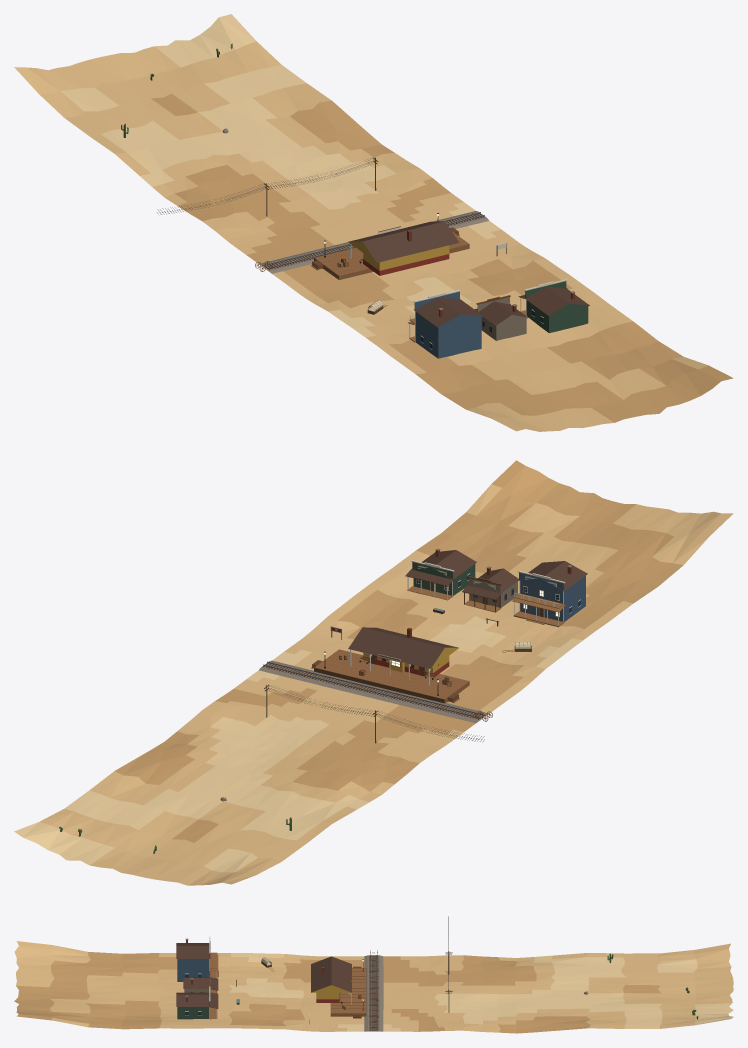
The model's file is SM_FG_Chunk_Landmark_Station_A.fbx.
The picture shows the model from 3 angles, top to bottom: view 1: azimuth 30°, elevation 25°; view 2: azimuth 150°, elevation 25°; view 3: azimuth 270°, elevation 25°; orthographic projection. The views are drawn at different scales.
Visible parts, largest first — view 1: FG_Chunk_Landmark_Station_A_Track; view 2: FG_Chunk_Landmark_Station_A_Track; view 3: FG_Chunk_Landmark_Station_A_Track.
Part boxes in pixels (left/top/right/bottom): FG_Chunk_Landmark_Station_A_Track: left=14, top=14, right=733, bottom=431; FG_Chunk_Landmark_Station_A_Track: left=14, top=460, right=733, bottom=885; FG_Chunk_Landmark_Station_A_Track: left=14, top=916, right=733, bottom=1033.
Size of the model in its own units: 6250 by 1052 by 20149.
